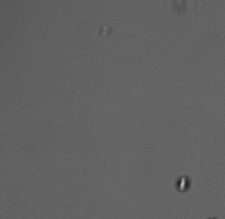Living Cell: (175, 174, 191, 193)
